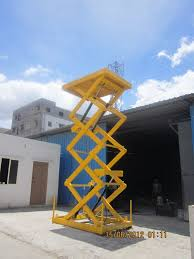Scissor Lift: (51, 68, 134, 238)
